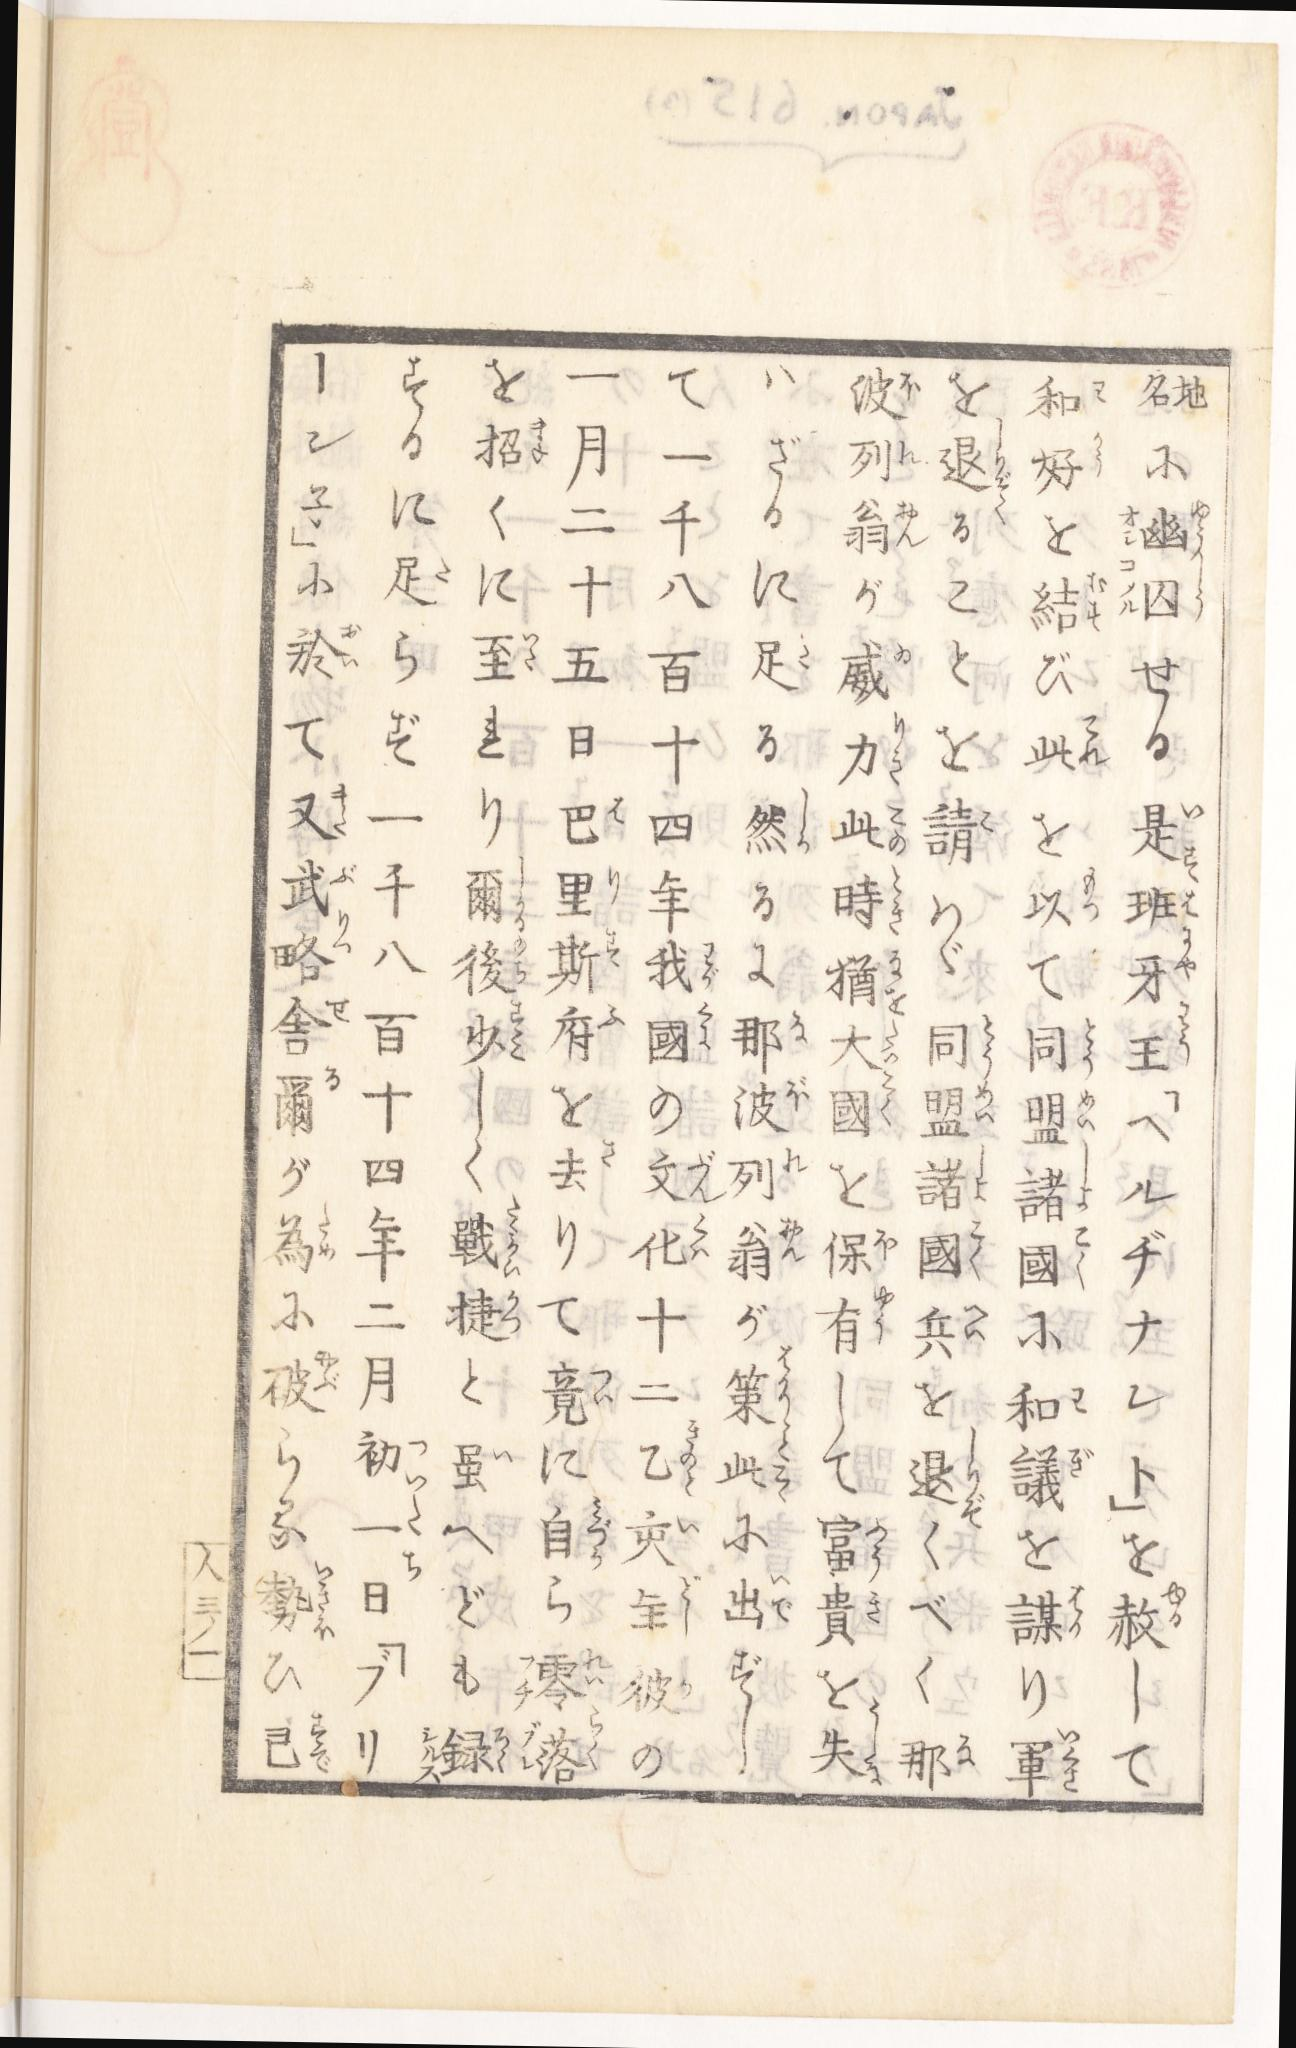MainZone-Character: (720, 1343, 797, 1458), (902, 1429, 988, 1526), (809, 1697, 893, 1788), (246, 1560, 337, 1643), (445, 1188, 526, 1279), (266, 908, 360, 985), (935, 424, 1020, 509), (624, 1415, 708, 1502), (1005, 1437, 1102, 1511), (1014, 1142, 1100, 1221), (833, 711, 920, 790), (254, 1346, 345, 1420), (1124, 922, 1203, 1006), (1117, 996, 1202, 1073), (826, 940, 912, 1017), (1002, 1578, 1087, 1654), (342, 1473, 433, 1543), (1024, 570, 1117, 639), (909, 1140, 994, 1215), (533, 1705, 608, 1790), (529, 1491, 614, 1566), (923, 796, 1003, 873), (1109, 1581, 1191, 1657), (539, 925, 624, 999), (455, 854, 535, 931), (736, 787, 818, 861), (1005, 1724, 1088, 1797), (827, 864, 911, 937), (809, 1508, 893, 1581), (252, 1711, 340, 1779), (1029, 425, 1108, 500), (1130, 799, 1203, 879), (832, 640, 921, 706), (727, 1075, 814, 1142), (630, 1211, 717, 1278), (729, 1212, 806, 1287), (1023, 712, 1112, 776), (1014, 1224, 1097, 1293), (620, 1569, 705, 1636), (266, 990, 352, 1055), (536, 1636, 611, 1712), (823, 1285, 900, 1358), (811, 1579, 888, 1652), (266, 1058, 340, 1133), (720, 1566, 797, 1638), (261, 1203, 339, 1275), (1020, 863, 1102, 930), (897, 1723, 979, 1790), (284, 618, 367, 684), (747, 627, 821, 700), (539, 1357, 617, 1427), (911, 1221, 990, 1290), (644, 1002, 723, 1070), (1018, 1015, 1102, 1079), (911, 1296, 987, 1366), (548, 1000, 629, 1066), (615, 1661, 699, 1724), (352, 1545, 426, 1617), (545, 863, 626, 927), (839, 497, 926, 557), (1002, 1376, 1094, 1432), (443, 1279, 521, 1345), (832, 803, 917, 863), (548, 1134, 623, 1202), (552, 787, 629, 852), (823, 1073, 900, 1137), (732, 1008, 811, 1070), (642, 930, 715, 997), (729, 1145, 806, 1208), (452, 933, 527, 997), (1026, 370, 1112, 425), (624, 1508, 700, 1570), (452, 999, 529, 1061), (466, 625, 543, 687), (1021, 1087, 1100, 1146), (472, 418, 552, 476), (1139, 500, 1214, 563), (920, 1082, 997, 1142), (278, 857, 361, 912), (848, 361, 924, 421), (827, 1227, 905, 1285), (930, 1009, 997, 1076), (1141, 567, 1212, 630), (284, 784, 355, 845), (384, 551, 455, 612), (826, 1021, 909, 1073), (449, 1432, 515, 1497), (439, 1718, 509, 1778), (717, 1449, 799, 1499), (354, 1426, 433, 1476), (848, 433, 926, 482), (1124, 884, 1202, 922)
MainZone-Ruby: (987, 425, 1018, 522), (770, 1345, 796, 1461), (306, 1555, 337, 1646), (859, 1697, 890, 1787), (579, 1493, 614, 1572), (675, 1415, 705, 1497), (1177, 802, 1206, 882), (1053, 1724, 1085, 1796), (499, 1194, 524, 1285), (962, 1432, 985, 1527), (303, 1706, 334, 1775), (1081, 572, 1112, 639), (884, 717, 912, 790), (1077, 712, 1109, 773), (863, 1285, 896, 1346), (1069, 1227, 1099, 1293), (400, 1473, 430, 1539), (1174, 927, 1205, 988), (579, 1702, 606, 1772), (893, 499, 927, 552), (672, 1575, 703, 1633), (766, 1569, 796, 1629), (309, 1348, 345, 1397), (788, 787, 814, 855), (779, 1211, 809, 1269), (1072, 1148, 1097, 1215), (882, 805, 911, 863), (885, 867, 908, 940), (885, 945, 909, 1012), (968, 1142, 991, 1206), (973, 1011, 997, 1073), (505, 997, 529, 1060), (581, 1643, 615, 1687), (334, 619, 364, 669), (1065, 1581, 1088, 1642), (314, 1203, 339, 1260), (511, 855, 529, 934), (862, 1517, 885, 1575), (1188, 502, 1212, 560), (1080, 863, 1102, 924), (691, 1000, 717, 1054), (959, 1300, 987, 1348), (1063, 1440, 1096, 1481), (1159, 1581, 1187, 1627), (1062, 1381, 1093, 1423), (1175, 1006, 1196, 1069), (330, 784, 352, 842), (488, 1721, 514, 1772), (687, 1212, 712, 1263), (872, 1073, 896, 1127), (966, 1221, 987, 1282), (324, 994, 357, 1033), (1075, 1015, 1097, 1072), (697, 939, 721, 991), (878, 1021, 905, 1067), (971, 1081, 997, 1127), (782, 1073, 814, 1112), (508, 937, 532, 988), (1071, 1088, 1097, 1133), (587, 1363, 614, 1408), (333, 912, 357, 960), (527, 416, 551, 464), (605, 928, 629, 975), (1085, 428, 1106, 481), (1193, 570, 1211, 630), (956, 1730, 982, 1769), (896, 436, 924, 472), (794, 631, 817, 676), (521, 627, 542, 675), (487, 1445, 520, 1475), (500, 1290, 521, 1334), (593, 1002, 623, 1033), (328, 860, 361, 888), (787, 1005, 809, 1045), (862, 1584, 882, 1626), (400, 1546, 423, 1585), (406, 1434, 433, 1466), (897, 367, 921, 402), (672, 1511, 700, 1539), (675, 1673, 697, 1709), (605, 790, 627, 825), (872, 1227, 896, 1260), (602, 867, 623, 905), (779, 1142, 805, 1172), (1091, 376, 1112, 412), (770, 1466, 791, 1502), (600, 1134, 620, 1170), (324, 1064, 348, 1091), (981, 809, 1000, 839), (434, 558, 452, 590), (1181, 890, 1200, 918), (894, 643, 909, 667)
